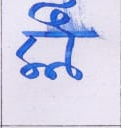au_matra: (52, 0, 93, 77)
